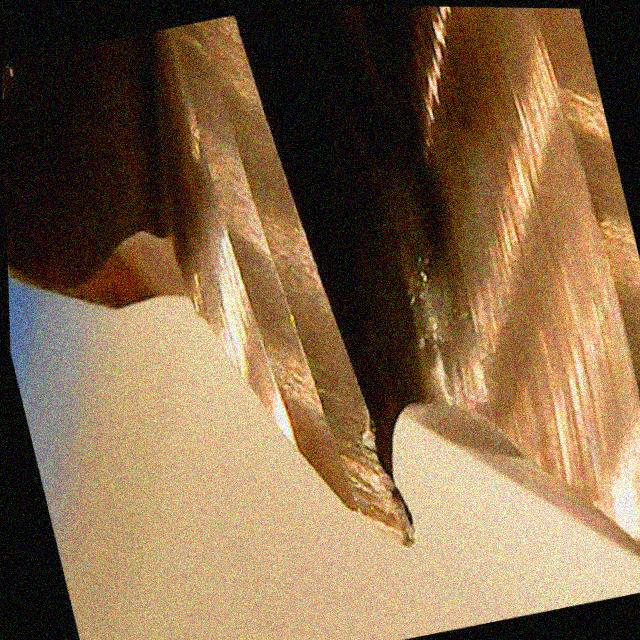Tool-wear-class-2: (236, 254, 431, 579)
